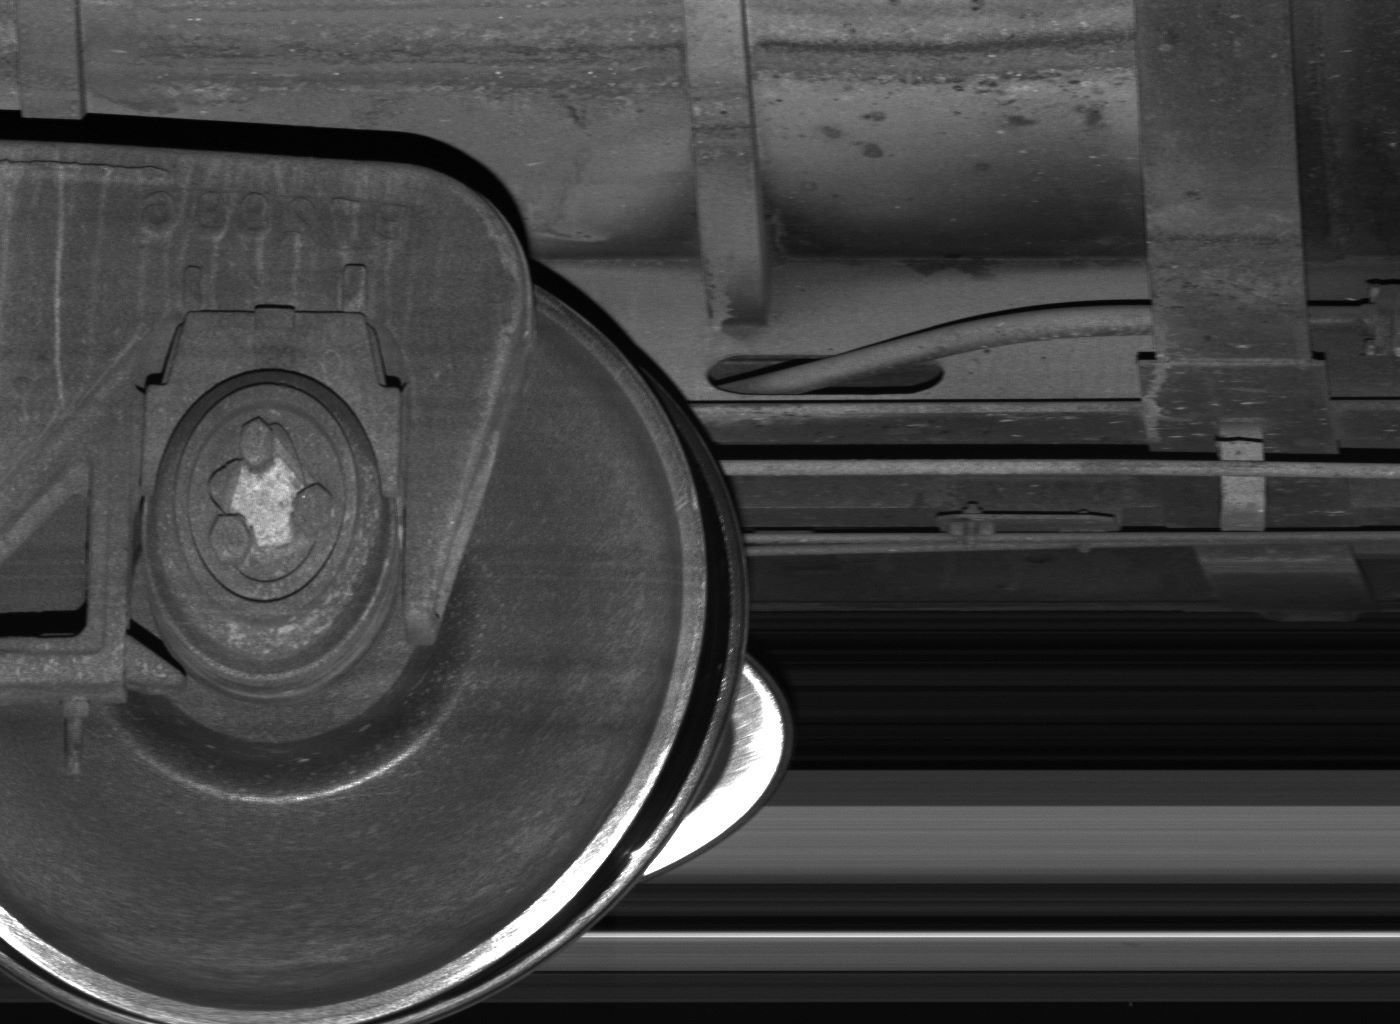Upper lever: (1216, 438, 1266, 530)
